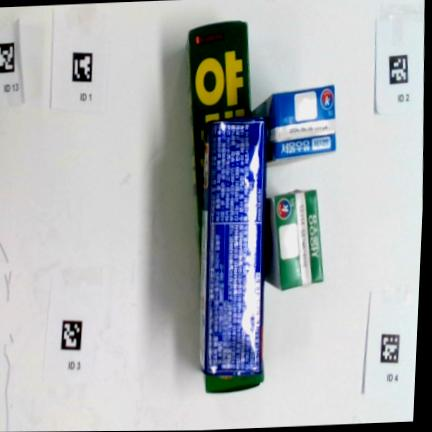cracker_ace: (199, 120, 267, 376)
cracker_vege: (183, 20, 252, 269)
milk_blue: (253, 85, 336, 162)
milk_green: (265, 190, 323, 290)
